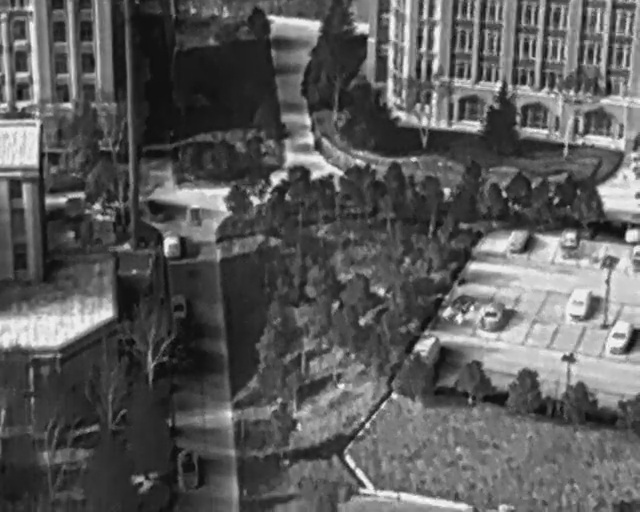Car: (602, 314, 639, 358), (441, 289, 476, 328), (566, 285, 594, 323), (177, 448, 199, 490), (504, 223, 532, 255), (480, 303, 505, 332), (560, 228, 578, 261), (170, 294, 187, 323), (187, 203, 202, 227)
OtherVehicle: (406, 328, 448, 372), (163, 233, 181, 261)
